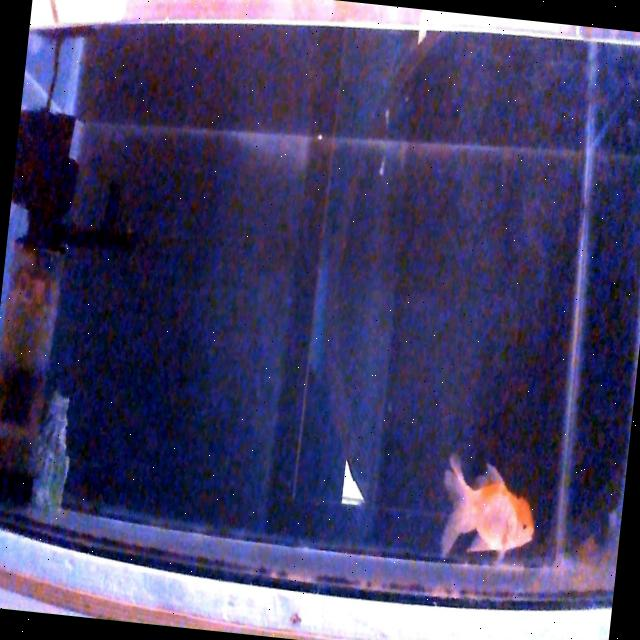fish: (434, 451, 542, 567)
